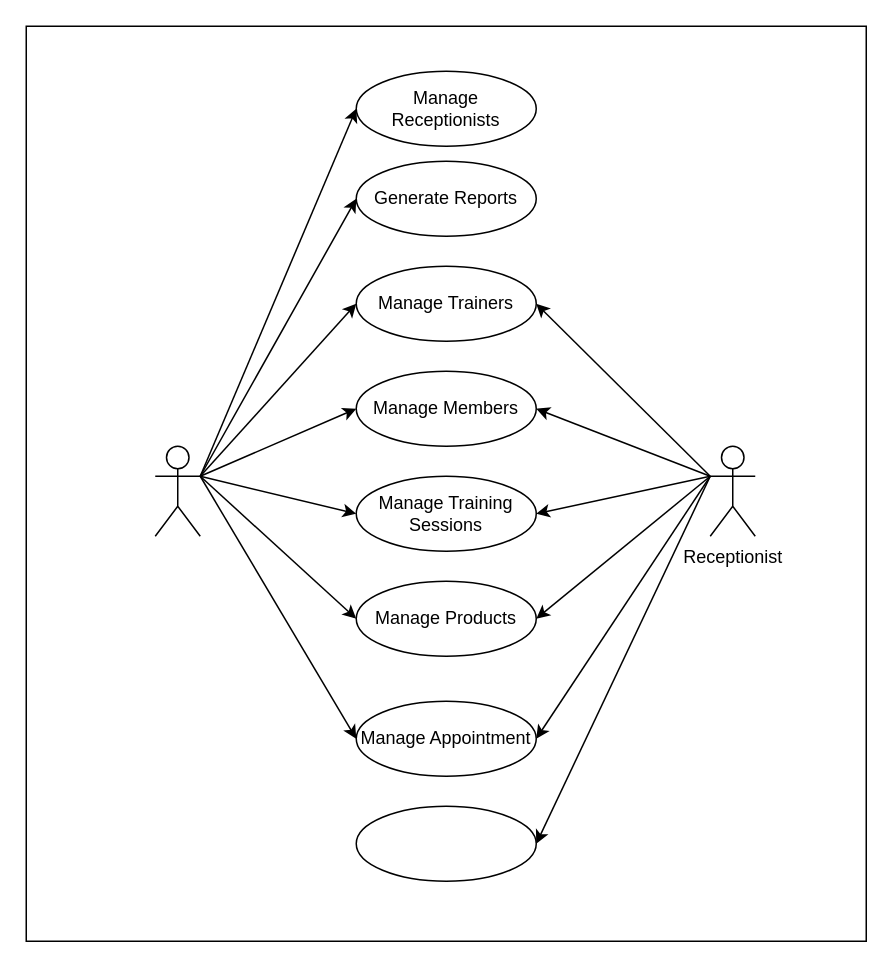
Image size: 893x968. Some labels were removed from this diagram. Each missing label, with the centre of its shape:
"Manage Personal Details" belongs at pixel 445 843.
"Manager" belongs at pixel 177 490.
